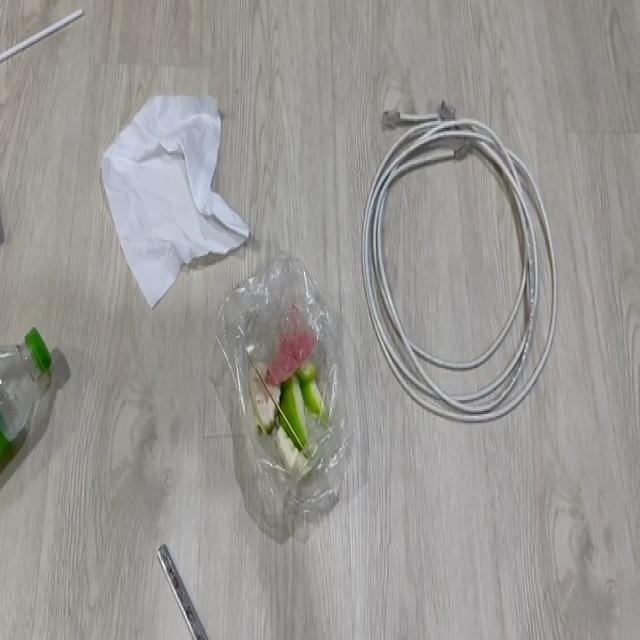Anorganik: (93, 78, 231, 302), (163, 531, 229, 640), (0, 359, 38, 521), (0, 22, 57, 87)
B3: (371, 107, 543, 409), (208, 274, 354, 514)
